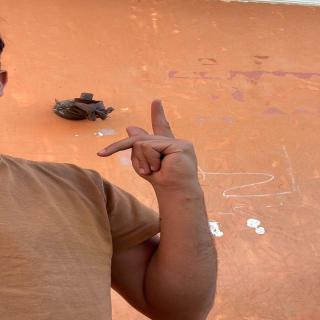DHAA: (90, 92, 204, 182)
